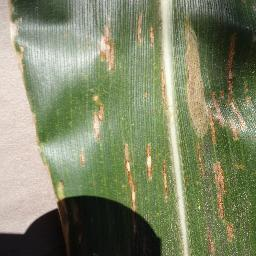Gray_Leaf_Spot: (179, 13, 252, 145), (47, 178, 89, 256), (17, 87, 52, 172), (120, 138, 138, 230), (95, 15, 122, 73), (4, 0, 26, 69), (83, 90, 108, 143), (212, 159, 231, 216), (131, 10, 158, 48), (156, 66, 172, 115), (194, 144, 209, 186), (159, 153, 171, 201), (145, 133, 154, 188), (203, 230, 218, 256), (225, 221, 239, 246), (76, 150, 91, 169), (140, 86, 151, 100)
